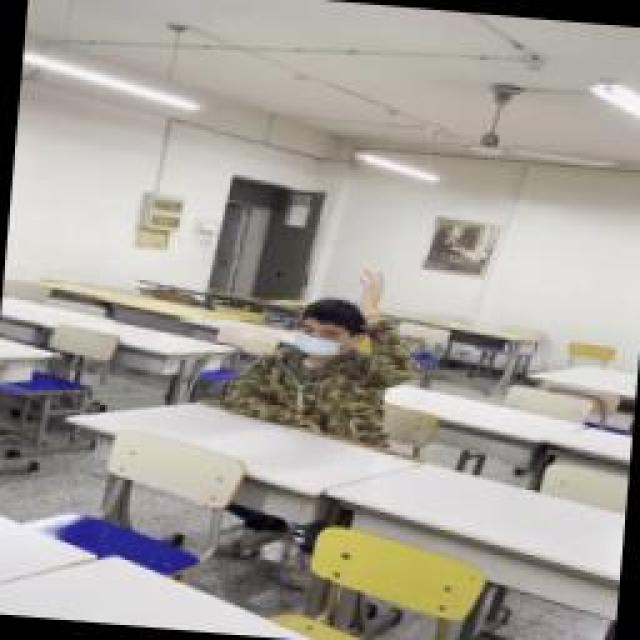study: (220, 260, 415, 445)
